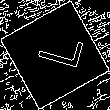L_W: (27, 33, 83, 77)
